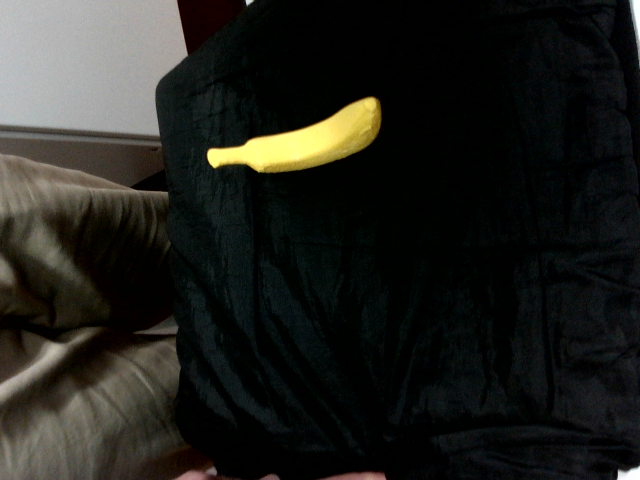banana: (207, 97, 381, 173)
